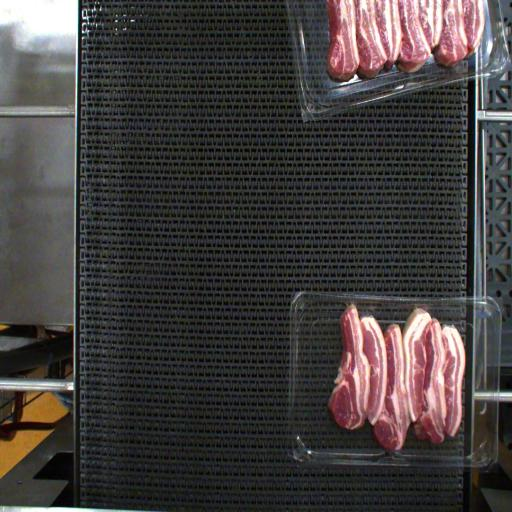packaging-error: (343, 298, 359, 310), (415, 304, 431, 312)
